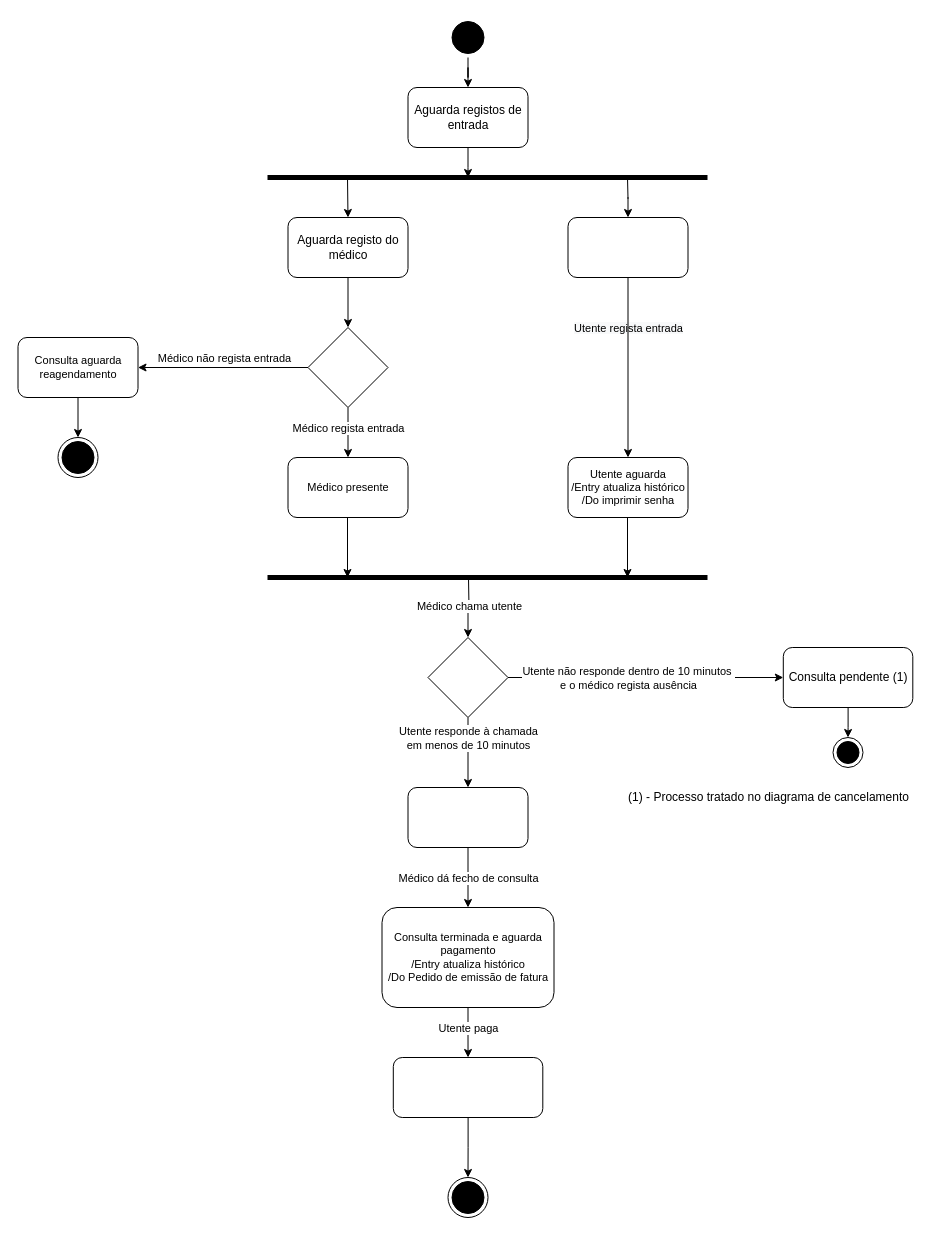
Some shapes in this 935 by 1235 pixel diagram are drawn without their labels. Here are the shapes that lost their labels. From the top down, the centre of each, then its label:
the point at 627,247: Aguarda registo do utente
the point at 467,817: Utente em consulta /Entry atualiza histórico
the point at 467,1087: Consulta paga /Do envio do recibo por email
